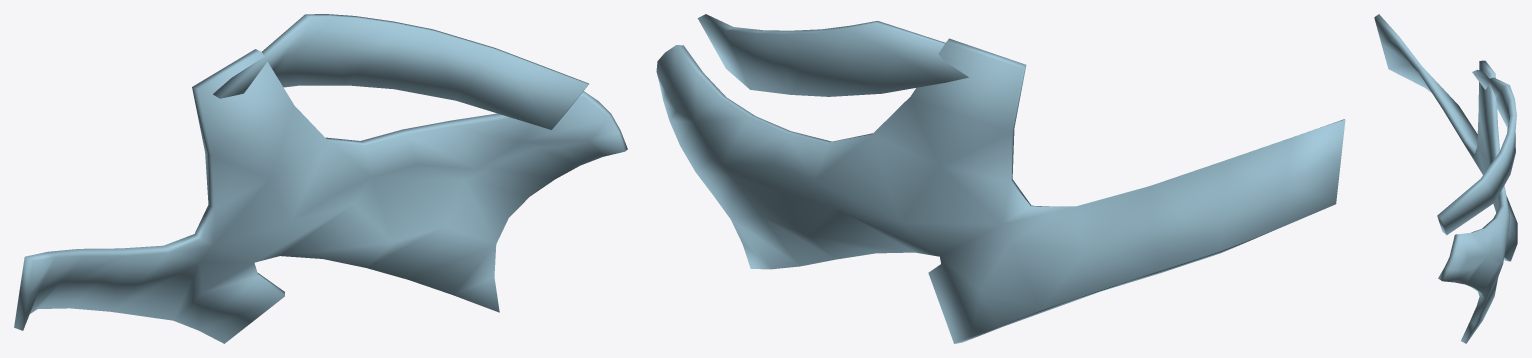
The model's file is articulacoes-dorsal-intercarpal-ligaments-r.glb.
3 views of the same model, side by side, from view 1: azimuth 30°, elevation 25°; view 2: azimuth 150°, elevation 25°; view 3: azimuth 270°, elevation 25° (orthographic). The views are drawn at different scales.
Parts seen in each view (by area): view 1: Dorsal intercarpal ligaments.r, Dorsal scaphotriquetral ligament.r; view 2: Dorsal intercarpal ligaments.r, Dorsal scaphotriquetral ligament.r; view 3: Dorsal intercarpal ligaments.r, Dorsal scaphotriquetral ligament.r.
Part boxes in pixels (box(x1,y1,x2,y2)): Dorsal intercarpal ligaments.r: box(14, 49, 627, 343); Dorsal scaphotriquetral ligament.r: box(213, 14, 588, 129); Dorsal intercarpal ligaments.r: box(656, 38, 1345, 343); Dorsal scaphotriquetral ligament.r: box(697, 14, 968, 96); Dorsal intercarpal ligaments.r: box(1374, 14, 1517, 343); Dorsal scaphotriquetral ligament.r: box(1437, 69, 1516, 234).
Bounding box in the file's own units: 0.0389 × 0.0179 × 0.0112.
